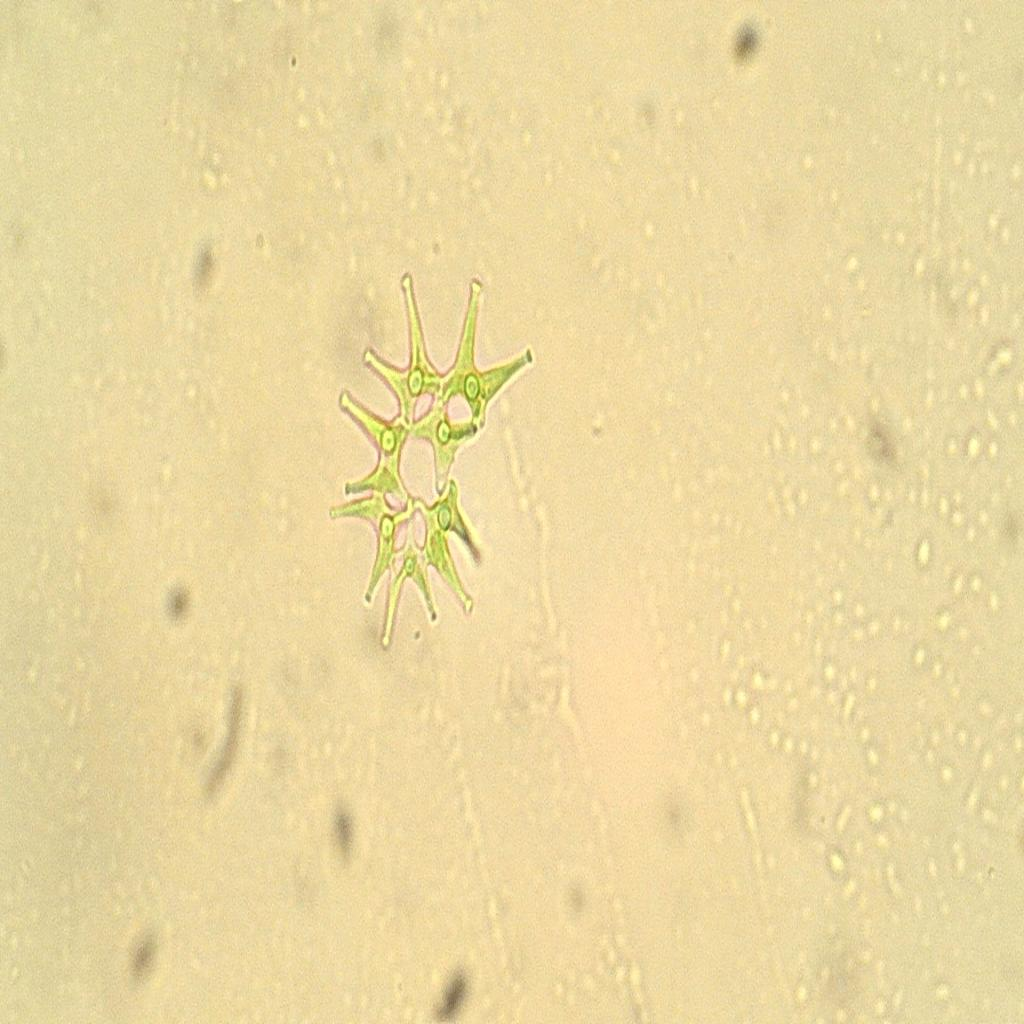Pediastrum_CFI: (320, 254, 546, 663)
